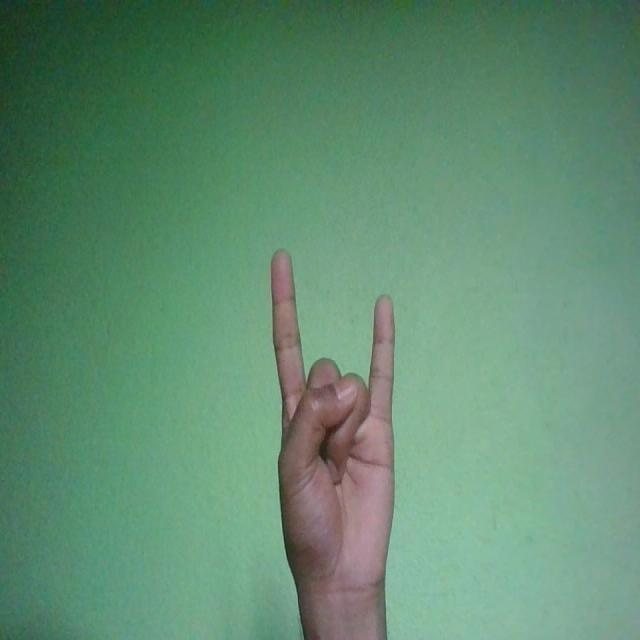open Plam: (271, 249, 396, 608)
